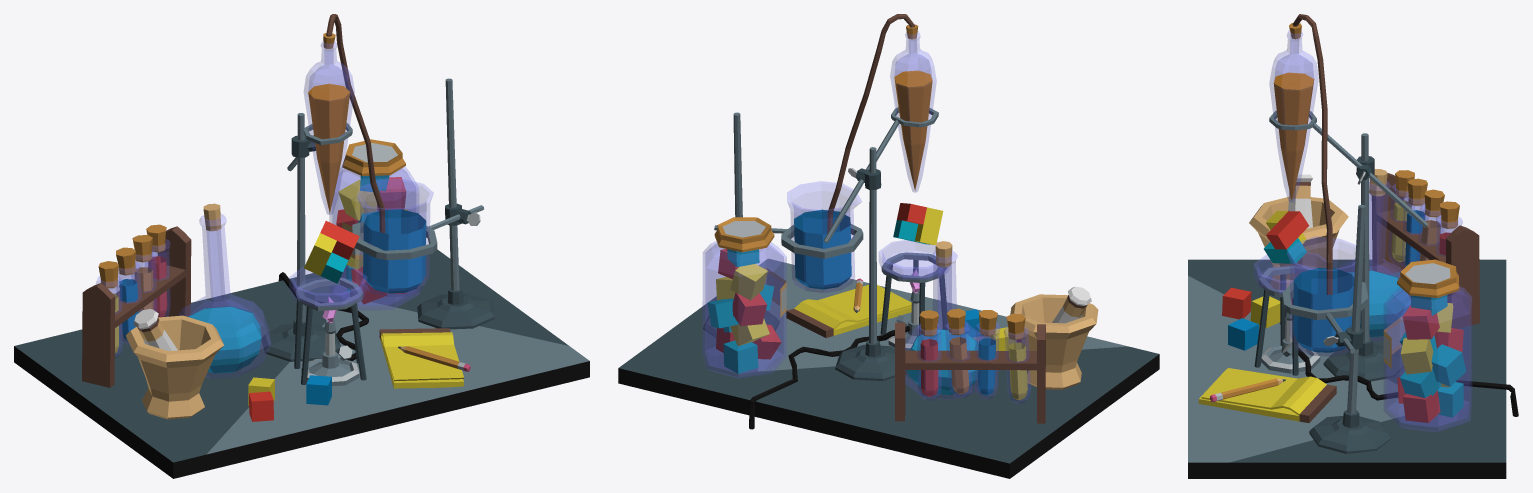
The model's file is Blocks Lab Equipment.glb.
The picture shows the model from 3 angles, left to right: view 1: azimuth 30°, elevation 25°; view 2: azimuth 150°, elevation 25°; view 3: azimuth 270°, elevation 25°; orthographic projection. The views are drawn at different scales.
Visible parts, largest first — view 1: node_MeshObject-1820571648-PolyPaper12, node_MeshObject-676413440-PolyGlass24; view 2: node_MeshObject-1820571648-PolyPaper12, node_MeshObject-676413440-PolyGlass24; view 3: node_MeshObject-1820571648-PolyPaper12, node_MeshObject-676413440-PolyGlass24.
Boxes of the visible parts, x1,y1,x2,y2 form: node_MeshObject-1820571648-PolyPaper12: [14, 14, 589, 478]; node_MeshObject-676413440-PolyGlass24: [96, 41, 433, 378]; node_MeshObject-1820571648-PolyPaper12: [618, 14, 1159, 478]; node_MeshObject-676413440-PolyGlass24: [702, 31, 1030, 403]; node_MeshObject-1820571648-PolyPaper12: [1188, 14, 1518, 478]; node_MeshObject-676413440-PolyGlass24: [1254, 30, 1471, 431].
Size of the model in its own units: 2.4 by 2.07 by 1.65.
